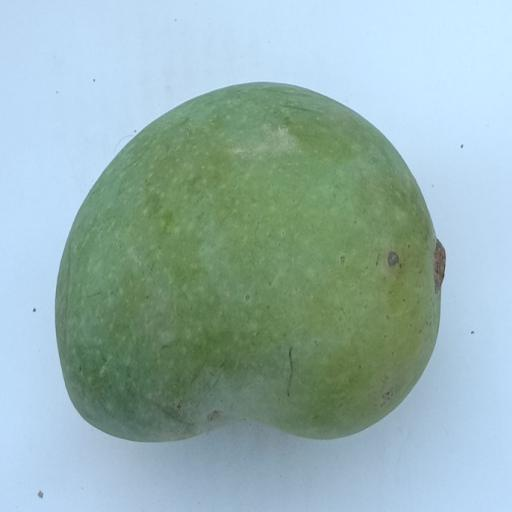mango-unripe: (43, 85, 484, 457)
